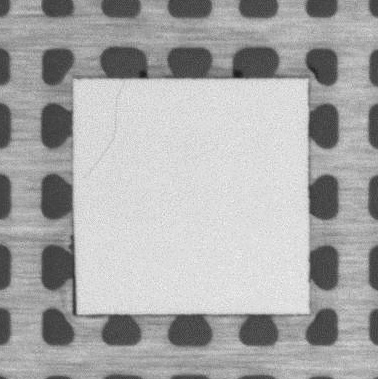DIE_CRACK: (88, 88, 122, 175)
